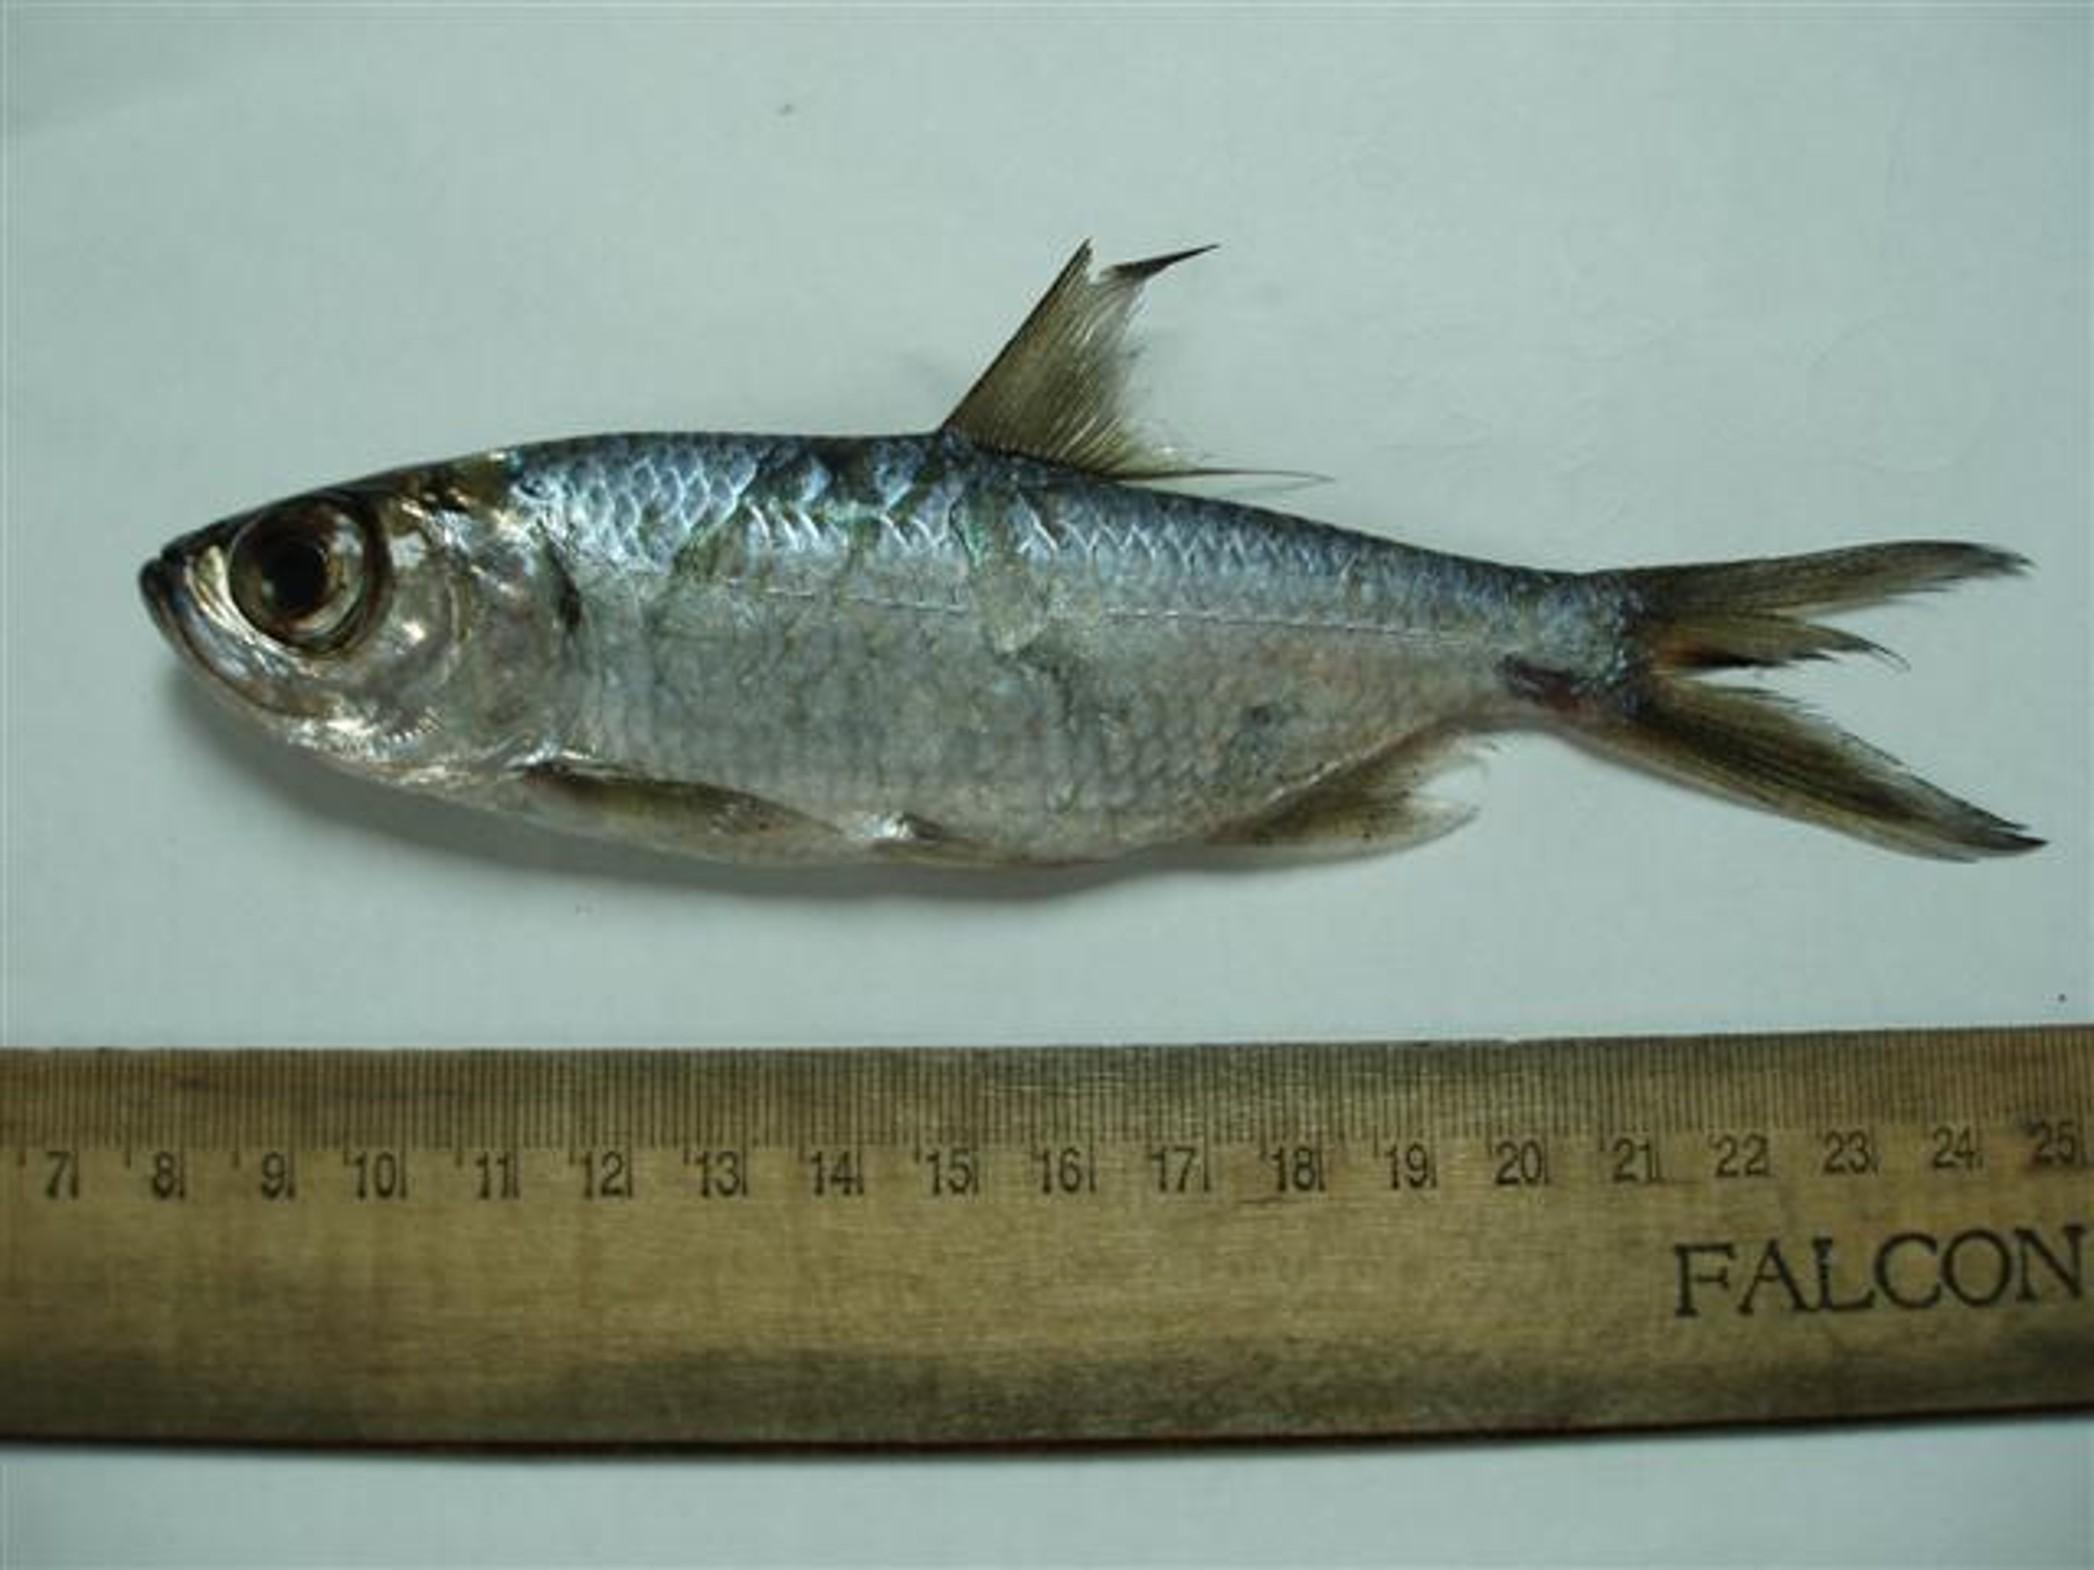Indo-Pacific Tarpon: (157, 241, 2051, 895)
